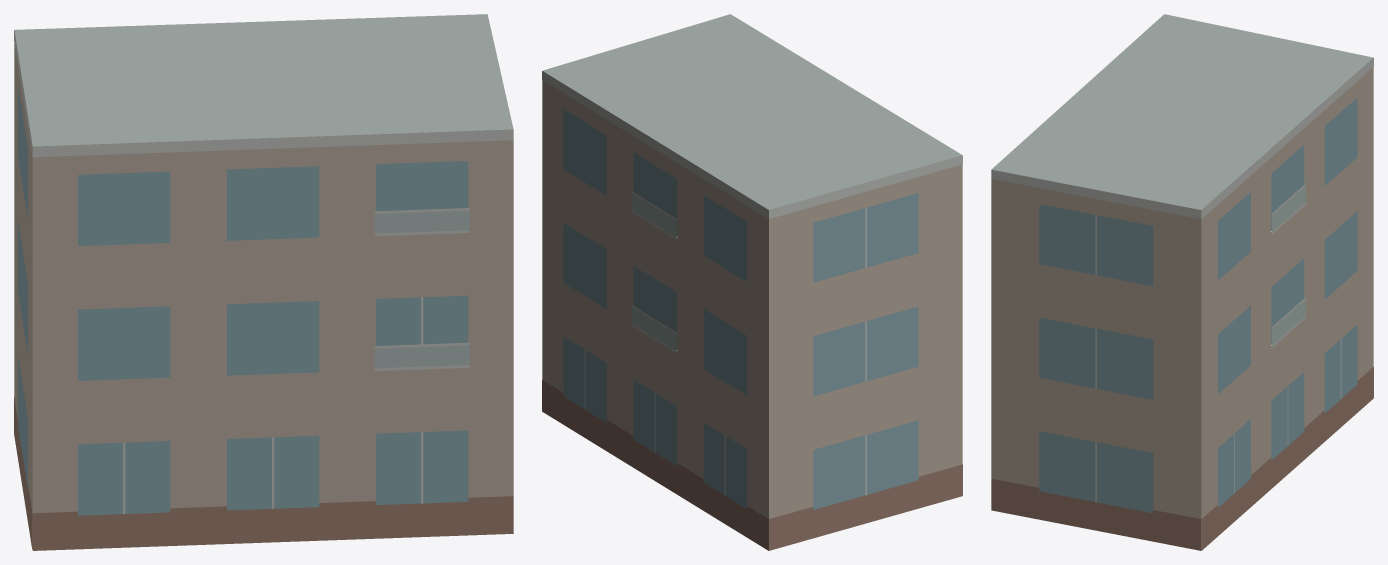
File: survey-upis-32991555.glb
The picture shows the model from 3 angles, left to right: view 1: azimuth 30°, elevation 25°; view 2: azimuth 150°, elevation 25°; view 3: azimuth 270°, elevation 25°; orthographic projection. The views are drawn at different scales.
Parts seen in each view (by area): view 1: survey-upis-32991555.tmp; view 2: survey-upis-32991555.tmp; view 3: survey-upis-32991555.tmp.
Boxes of the visible parts, x1=… form: survey-upis-32991555.tmp: x1=14, y1=14, x2=513, y2=550; survey-upis-32991555.tmp: x1=542, y1=14, x2=962, y2=550; survey-upis-32991555.tmp: x1=991, y1=14, x2=1373, y2=550.
Size of the model in its own units: 11.31 by 9.15 by 9.32.
